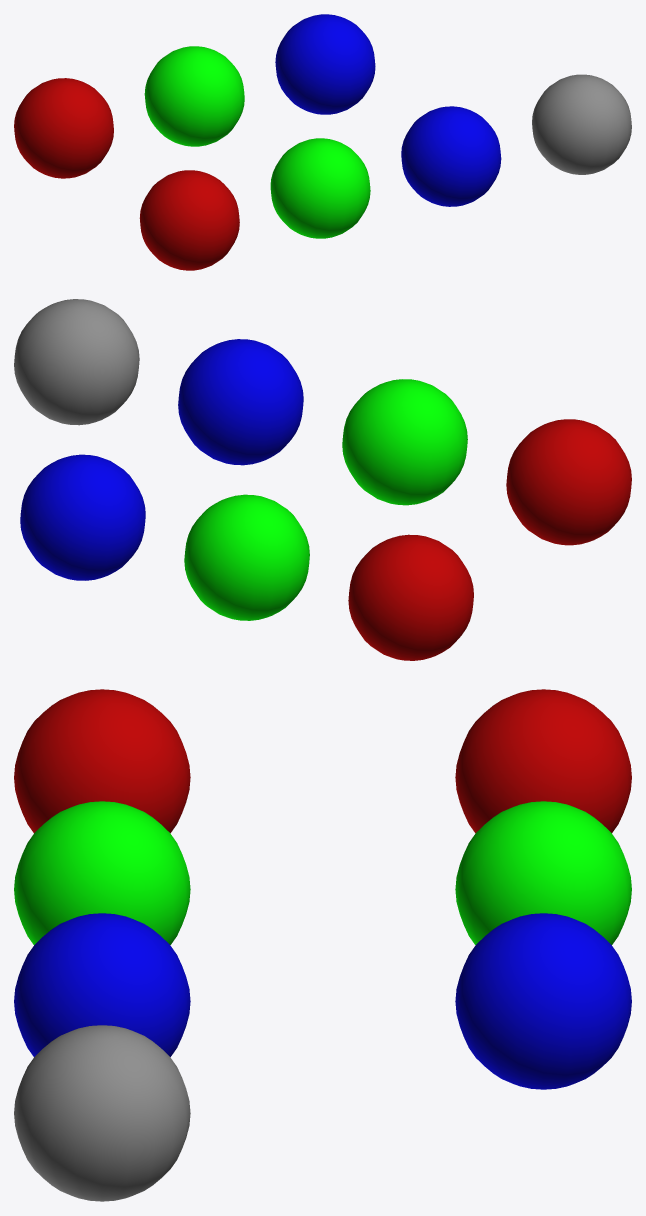
Rendered from MaxSimultaneousLights.gltf.
3 renders of one model, top to bottom at view 1: azimuth 30°, elevation 25°; view 2: azimuth 150°, elevation 25°; view 3: azimuth 270°, elevation 25°, orthographic. The views are drawn at different scales.
Visible parts, largest first — view 1: pSphere9, pSphere6, pSphere3, pSphere1, pSphere8, pSphere4, pSphere2; view 2: pSphere1, pSphere2, pSphere6, pSphere3, pSphere9, pSphere4, pSphere8; view 3: pSphere4, pSphere6, pSphere1, pSphere3, pSphere8, pSphere2, pSphere9.
Boxes of the visible parts, left/top/right/bottom form: pSphere9: left=144, top=46, right=244, bottom=146; pSphere6: left=275, top=14, right=375, bottom=114; pSphere3: left=401, top=106, right=501, bottom=206; pSphere1: left=139, top=170, right=239, bottom=270; pSphere8: left=14, top=78, right=113, bottom=178; pSphere4: left=532, top=74, right=631, bottom=174; pSphere2: left=270, top=138, right=370, bottom=238; pSphere1: left=506, top=419, right=631, bottom=545; pSphere2: left=342, top=379, right=467, bottom=505; pSphere6: left=20, top=454, right=145, bottom=580; pSphere3: left=178, top=339, right=303, bottom=465; pSphere9: left=184, top=494, right=309, bottom=620; pSphere4: left=14, top=299, right=139, bottom=425; pSphere8: left=348, top=534, right=473, bottom=660; pSphere4: left=14, top=1025, right=190, bottom=1201; pSphere6: left=455, top=913, right=631, bottom=1089; pSphere1: left=14, top=689, right=190, bottom=833; pSphere3: left=14, top=913, right=190, bottom=1056; pSphere8: left=455, top=689, right=631, bottom=833; pSphere2: left=14, top=801, right=190, bottom=944; pSphere9: left=455, top=801, right=631, bottom=944.
Bounding box in the file's own units: 11 × 2 × 7.
